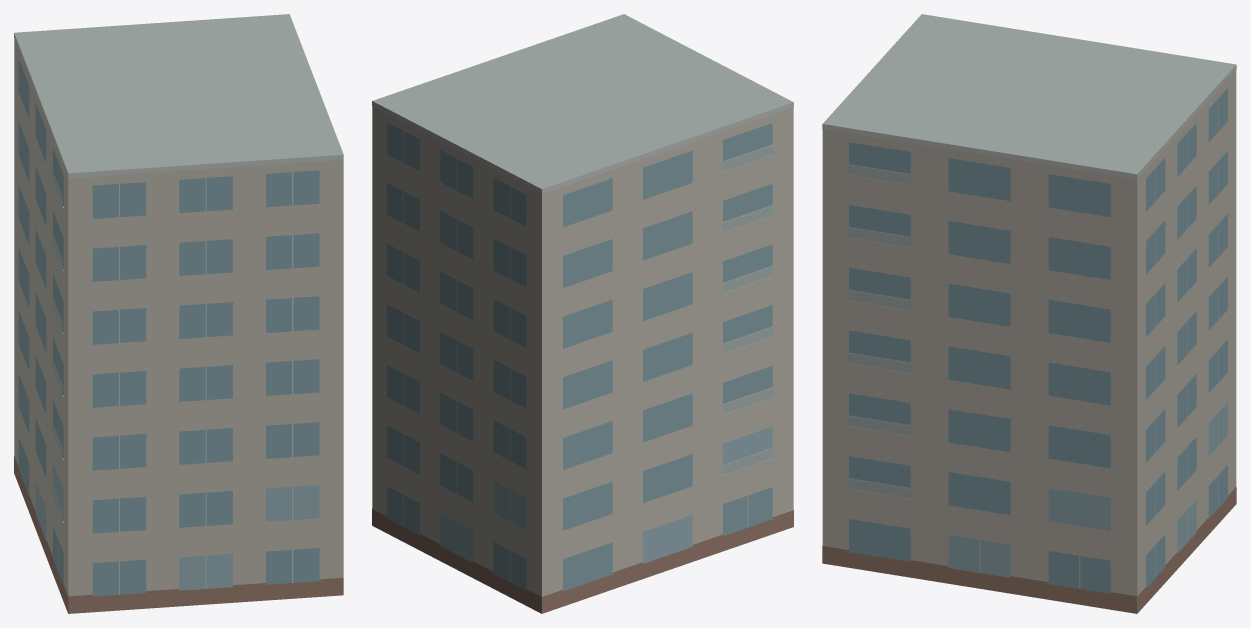
Rendered from survey-upis-33033447.glb.
3 renders of one model, left to right at view 1: azimuth 30°, elevation 25°; view 2: azimuth 150°, elevation 25°; view 3: azimuth 270°, elevation 25°, orthographic. The views are drawn at different scales.
Visible parts, largest first — view 1: survey-upis-33033447.tmp; view 2: survey-upis-33033447.tmp; view 3: survey-upis-33033447.tmp.
Part boxes in pixels (x1,y1,x2,y2): survey-upis-33033447.tmp: (14,14,343,613); survey-upis-33033447.tmp: (372,14,793,613); survey-upis-33033447.tmp: (822,14,1236,613).
Size of the model in its own units: 16.75 by 21.4 by 18.28.
